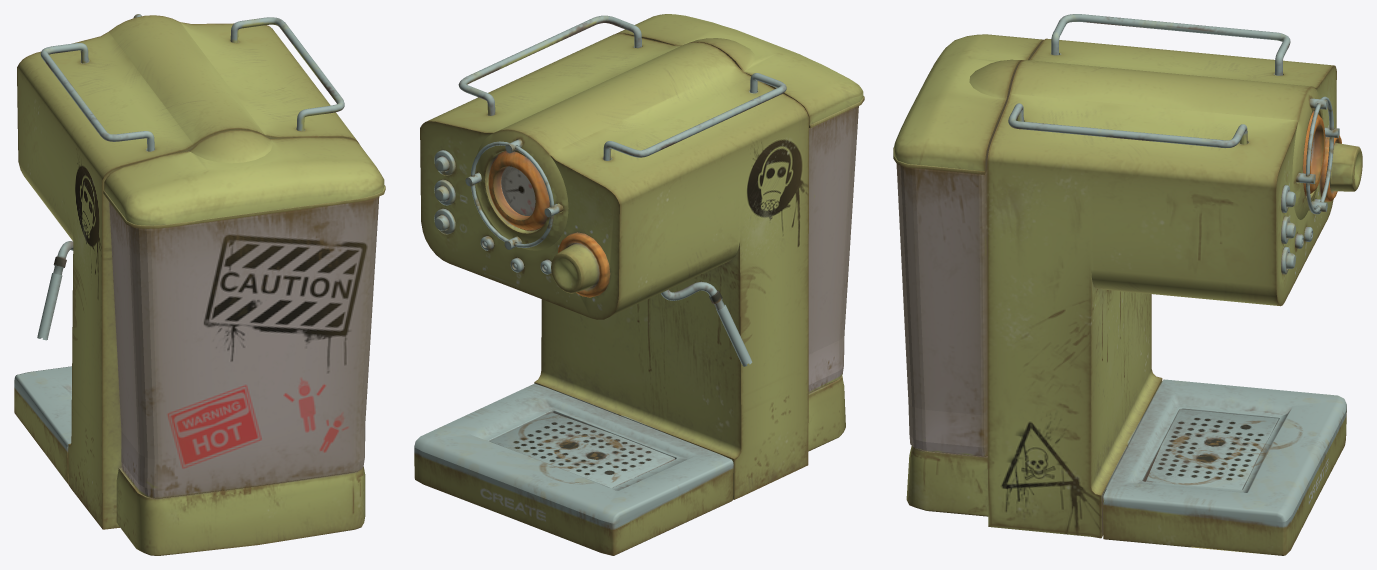
File: coffee_machine_thera_matt_retro.glb
3 renders of one model, left to right at view 1: azimuth 30°, elevation 25°; view 2: azimuth 150°, elevation 25°; view 3: azimuth 270°, elevation 25°, orthographic. The views are drawn at different scales.
Parts seen in each view (by area): view 1: CoffeeMachine_low, filter_low, lid_low, matalTop_low, handle_low; view 2: CoffeeMachine_low, filter_low, lid_low, matalTop_low, metalRing_low, handle_low, buttons_low; view 3: CoffeeMachine_low, filter_low, lid_low, matalTop_low, metalRing_low, buttons_low.
Part boxes in pixels (x1,y1,x2,y2): CoffeeMachine_low: [14, 15, 365, 555]; filter_low: [109, 196, 379, 498]; lid_low: [103, 130, 385, 228]; matalTop_low: [40, 17, 344, 151]; handle_low: [37, 241, 73, 340]; CoffeeMachine_low: [414, 33, 845, 555]; filter_low: [808, 106, 858, 392]; lid_low: [616, 14, 864, 128]; matalTop_low: [458, 15, 786, 160]; metalRing_low: [465, 139, 563, 249]; handle_low: [661, 281, 752, 366]; buttons_low: [434, 150, 455, 234]; CoffeeMachine_low: [906, 38, 1362, 555]; filter_low: [896, 164, 987, 456]; lid_low: [893, 34, 1043, 174]; matalTop_low: [1008, 14, 1290, 148]; metalRing_low: [1296, 96, 1339, 213]; buttons_low: [1281, 185, 1295, 274].
Bounding box in the file's own units: 0.2276 × 0.283 × 0.2964.
Materials: 1 (1 with a texture image).
